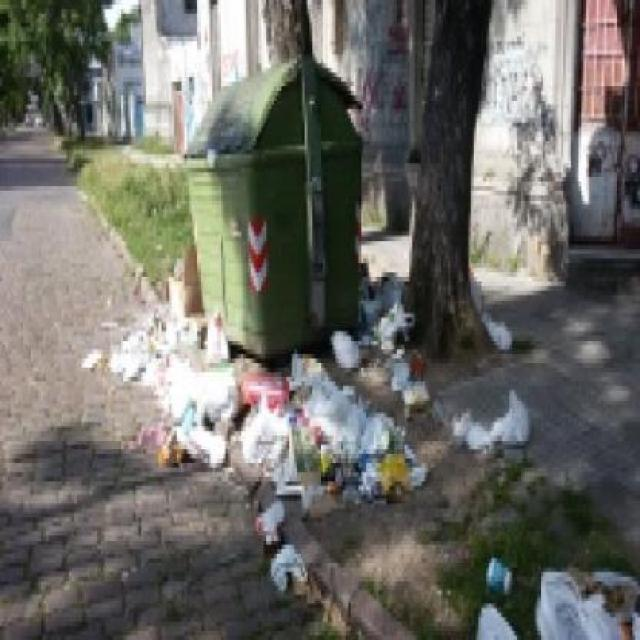garbage: (215, 345, 418, 490), (111, 305, 234, 464), (459, 527, 638, 636), (316, 291, 436, 414)
